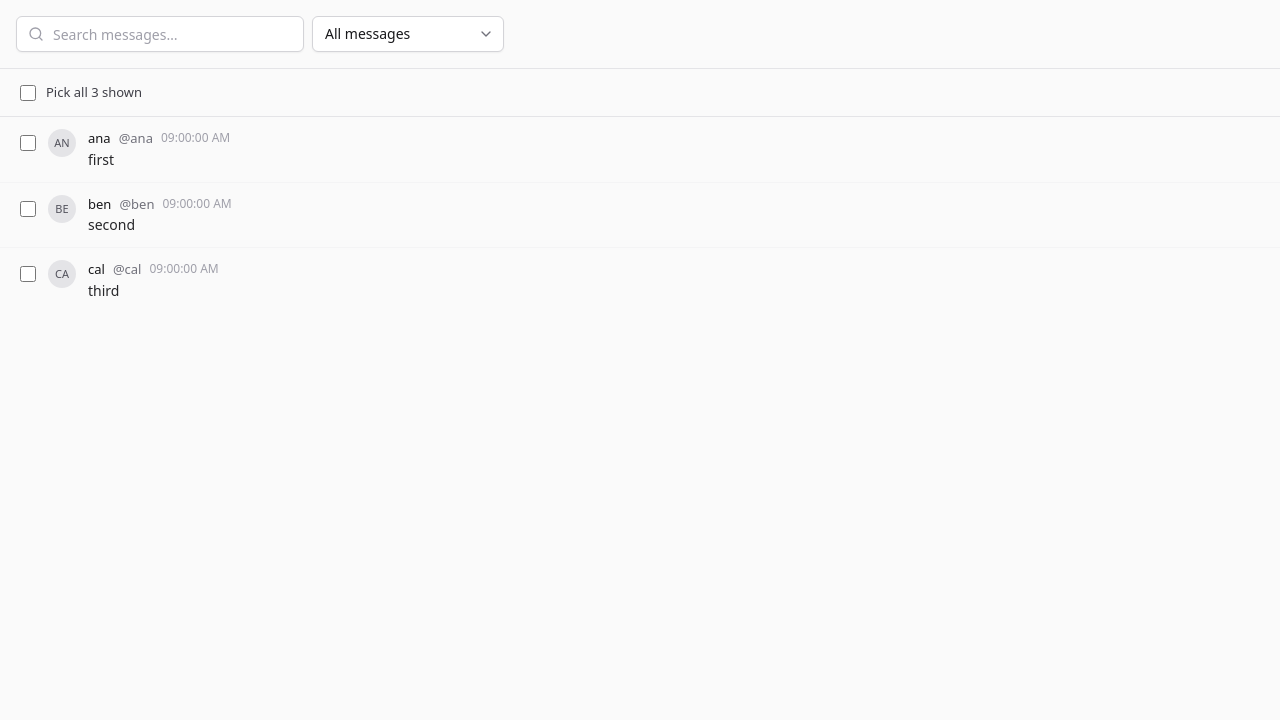
picking chat messages to delete › deletes the picked ones for good, all at once
This screenshot has width=1280, height=720.
Click the checkbox named "Pick the message from @ana": [28, 143] box [20,135,36,151]
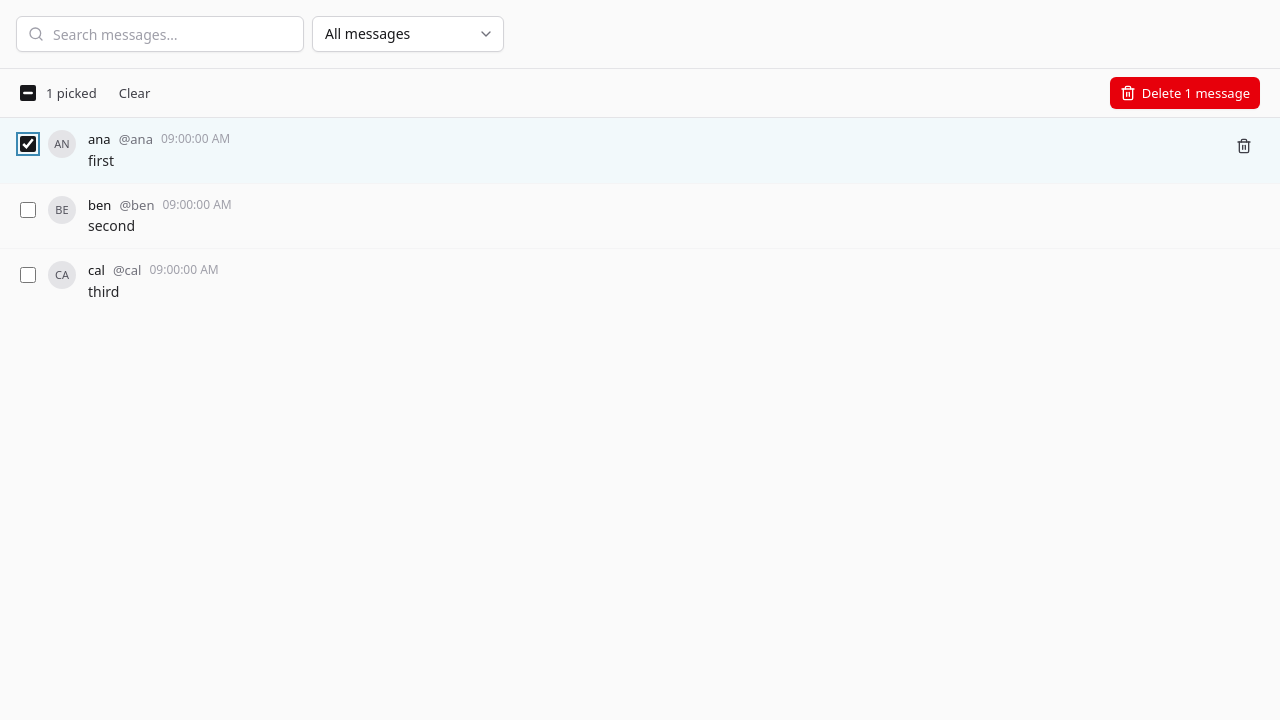
Click the checkbox named "Pick the message from @cal": [28, 275] box [20,267,36,283]
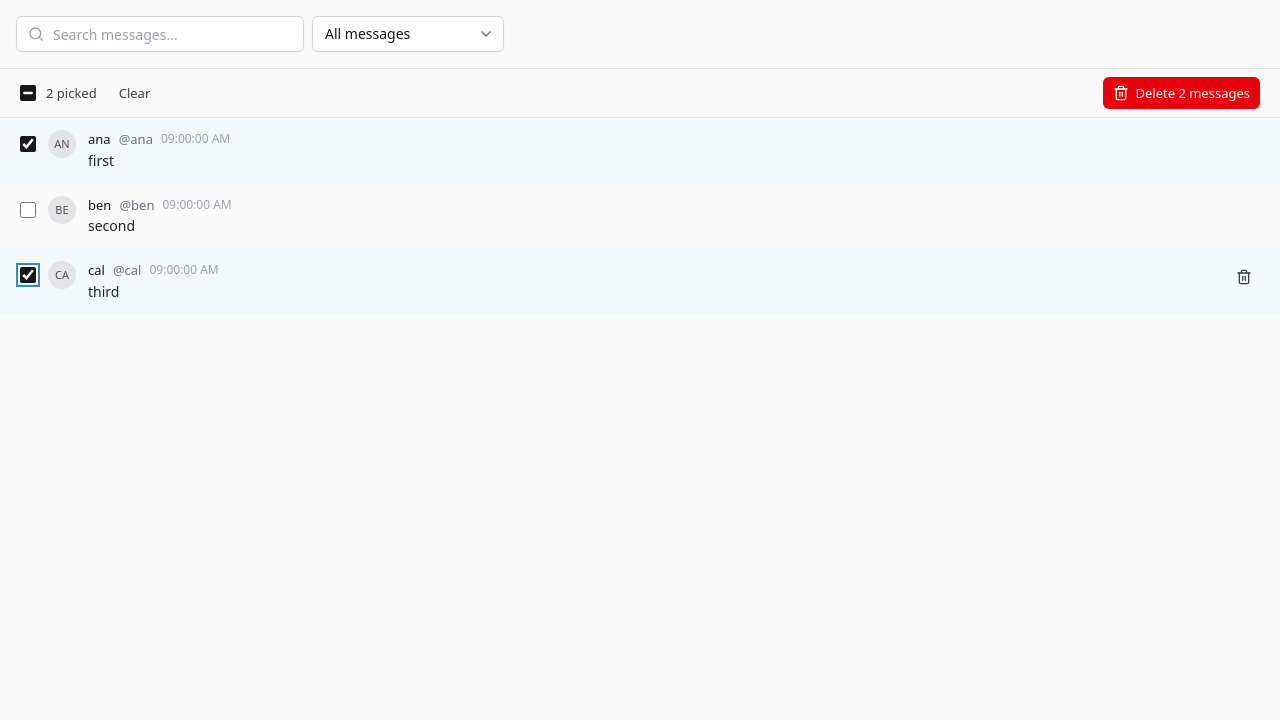
Now the text "2 picked" is shown, box [20,84,97,102]
Click the button "Delete 2 messages": [1182, 93] box [1104,77,1260,109]
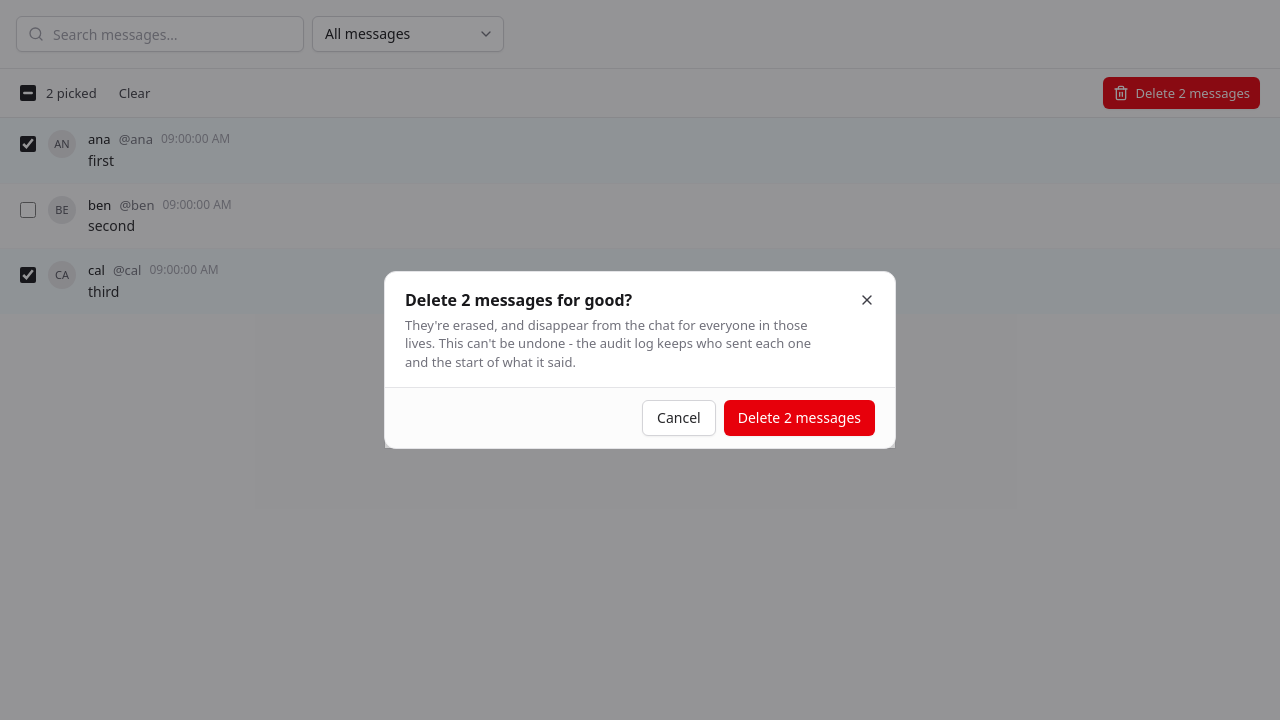
Click the button "Delete 2 messages": [799, 418] box [724,400,875,436]
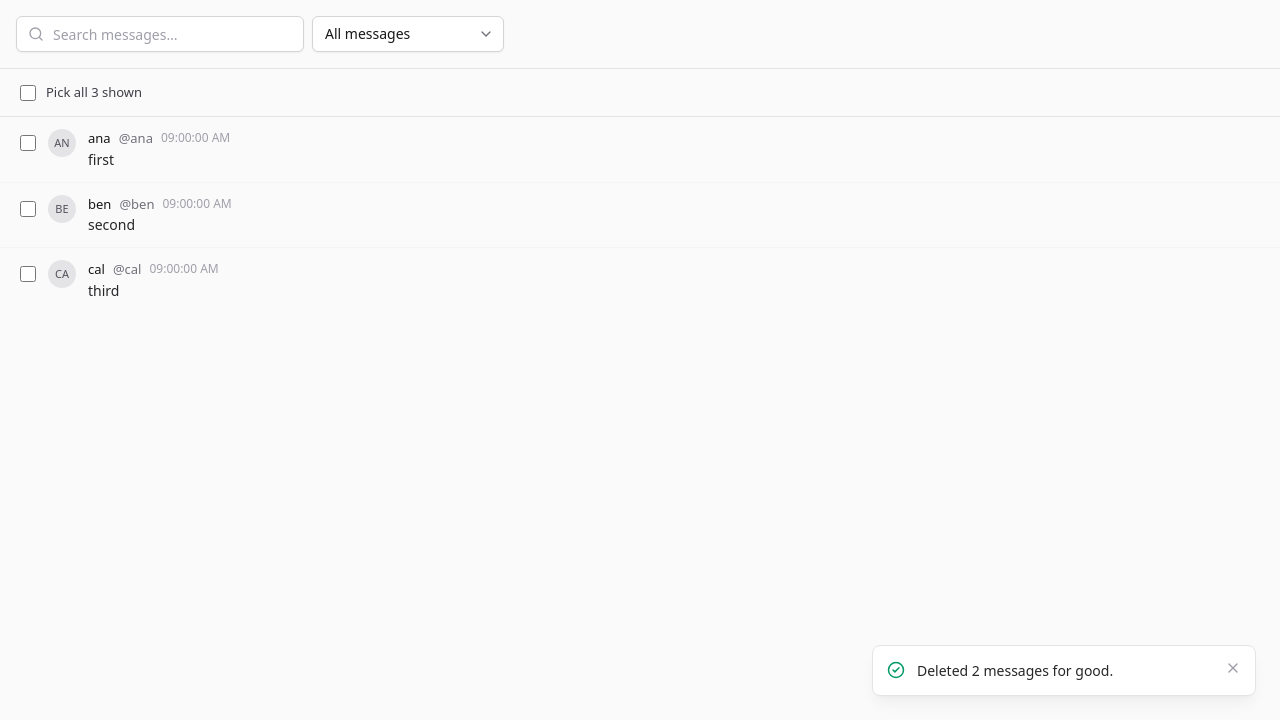
Now the text "Deleted 2 messages for good." is shown, box [917,661,1113,680]
Now the text "Pick all 3 shown" is shown, box [20,83,142,102]
